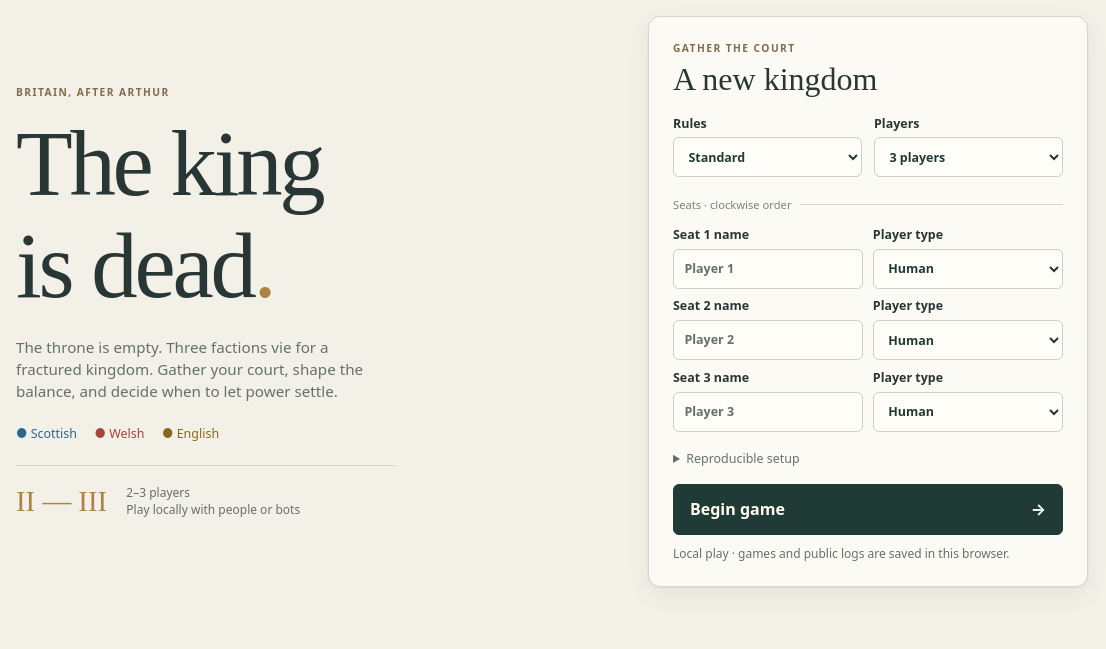
Test: seat names and difficulties › offers Hard with the v2 model name and removes its agent hint when Human is chosen
Select "Hard bot" in the dropdown named "Player 3 type" at (968, 412), box [873, 392, 1063, 432]
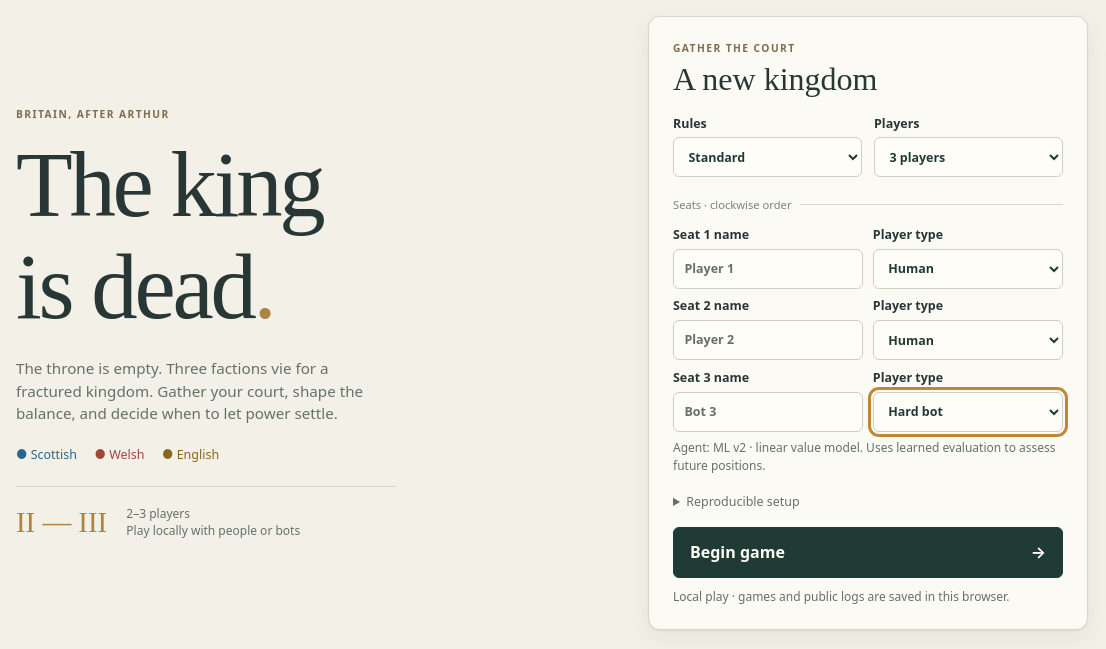
Expected: the text "Agent: ML v2 · linear value model" is shown, [673, 439, 1063, 474]
Click the button "Begin game →".
click(737, 552)  # box [673, 527, 1063, 578]
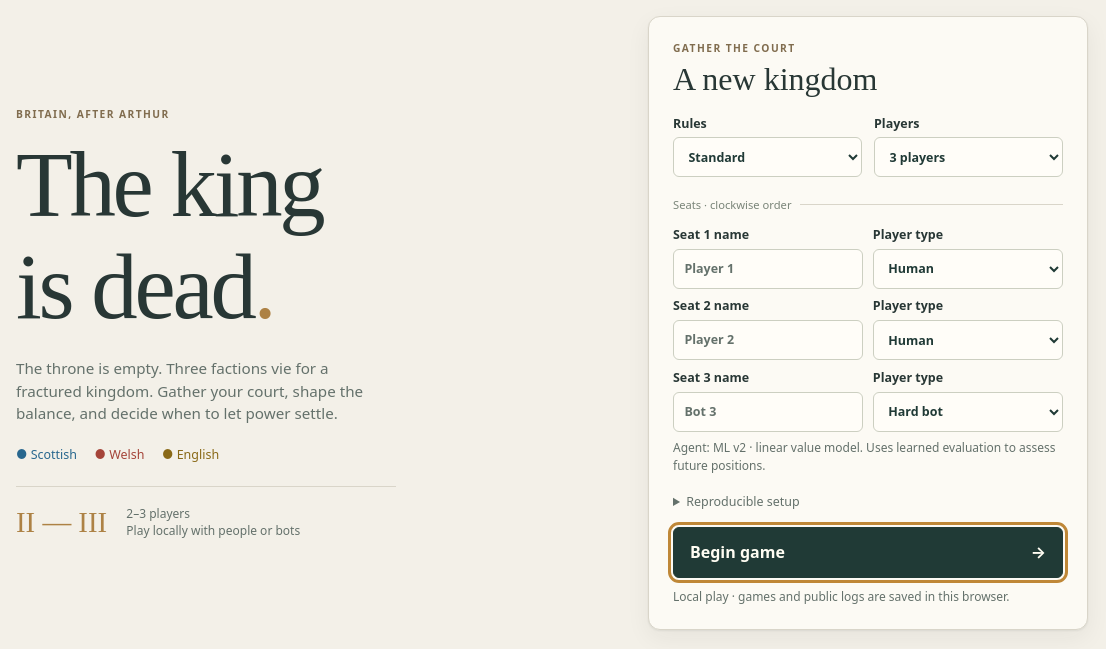
Select "Human" in the dropdown named "Player 3 type" at (968, 412), box [873, 392, 1063, 432]
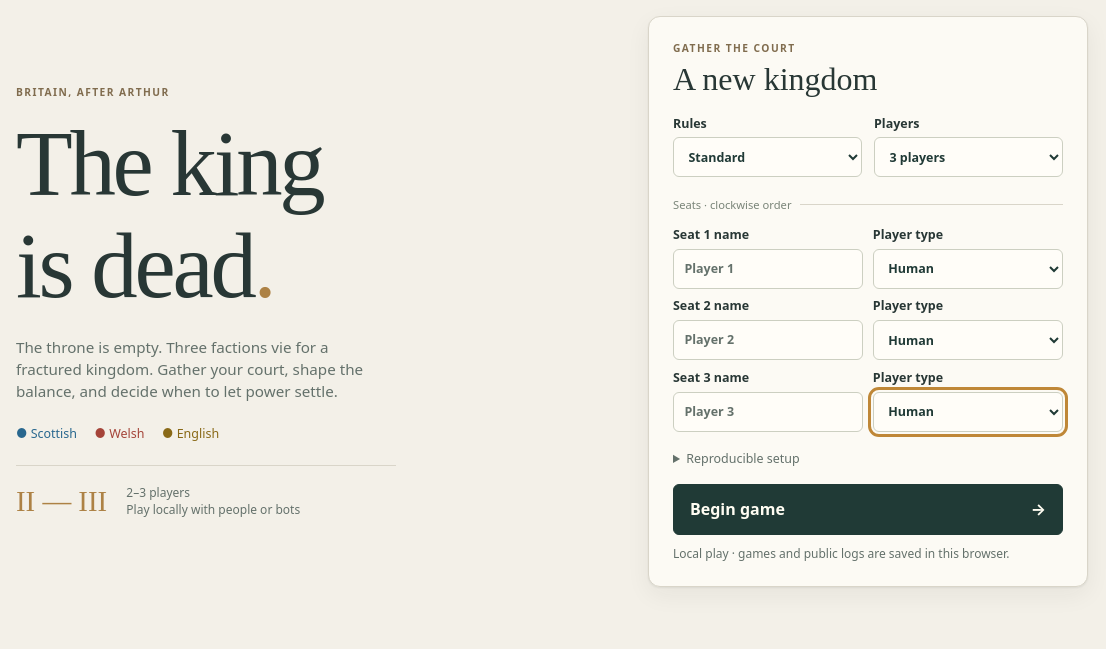
Expected: the text "Agent: ML v2" is gone
